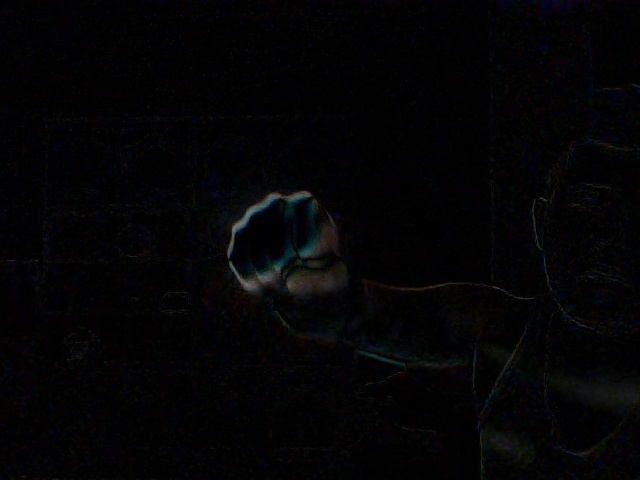hand_fi: (220, 188, 341, 310)
